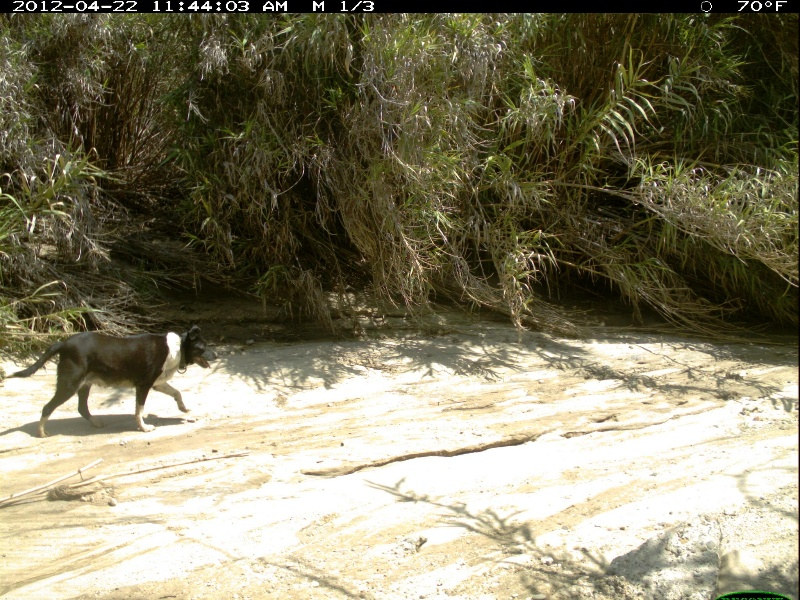dog: (1, 319, 221, 443)
